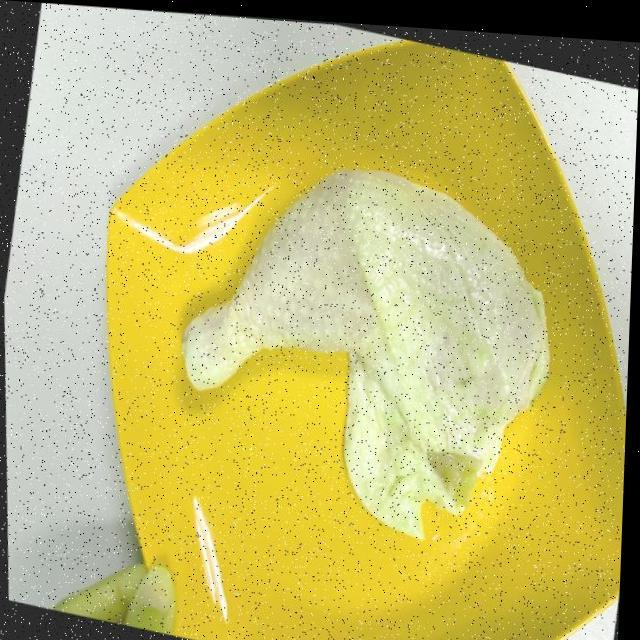quater: (185, 154, 557, 509)
